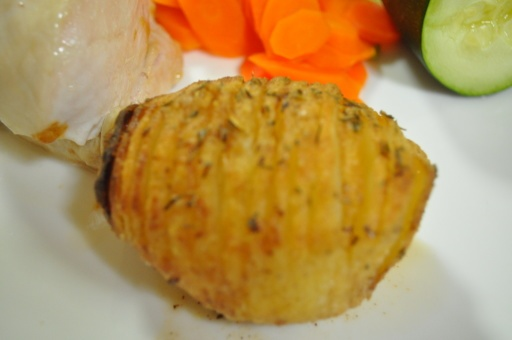background: (0, 0, 410, 173)
